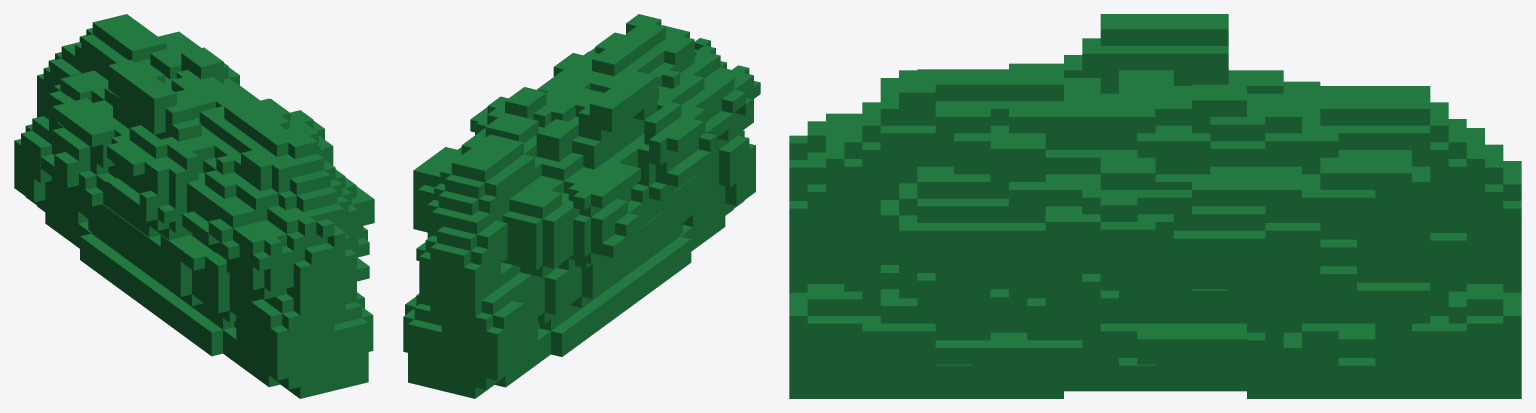
The model's file is arbusto_00.fbx.
3 renders of one model, left to right at view 1: azimuth 30°, elevation 25°; view 2: azimuth 150°, elevation 25°; view 3: azimuth 270°, elevation 25°, orthographic. The views are drawn at different scales.
Parts seen in each view (by area): view 1: arbusto_00; view 2: arbusto_00; view 3: arbusto_00.
Boxes of the visible parts, <box> form: arbusto_00: <box>14,14,374,398</box>; arbusto_00: <box>403,14,760,398</box>; arbusto_00: <box>789,14,1521,398</box>.
Bounding box in the file's own units: 180 × 190 × 400.
1 material, 1 textured.
